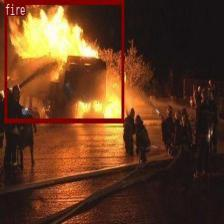fire: (4, 0, 124, 122)
